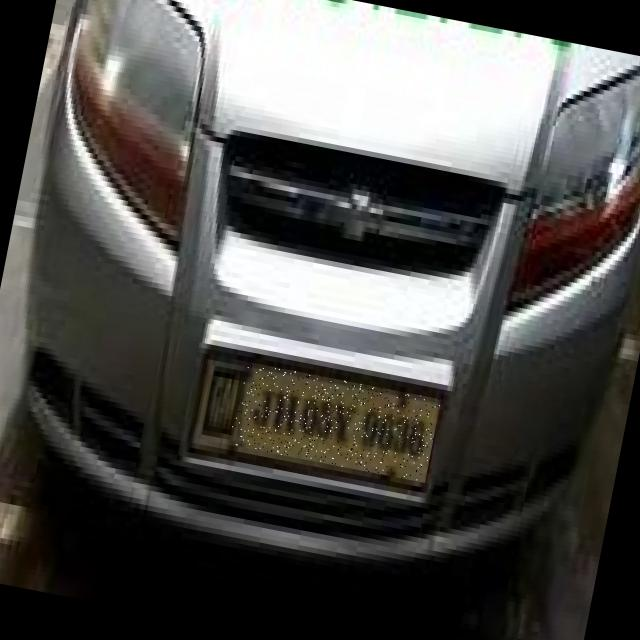Plate: (230, 362, 443, 484)
